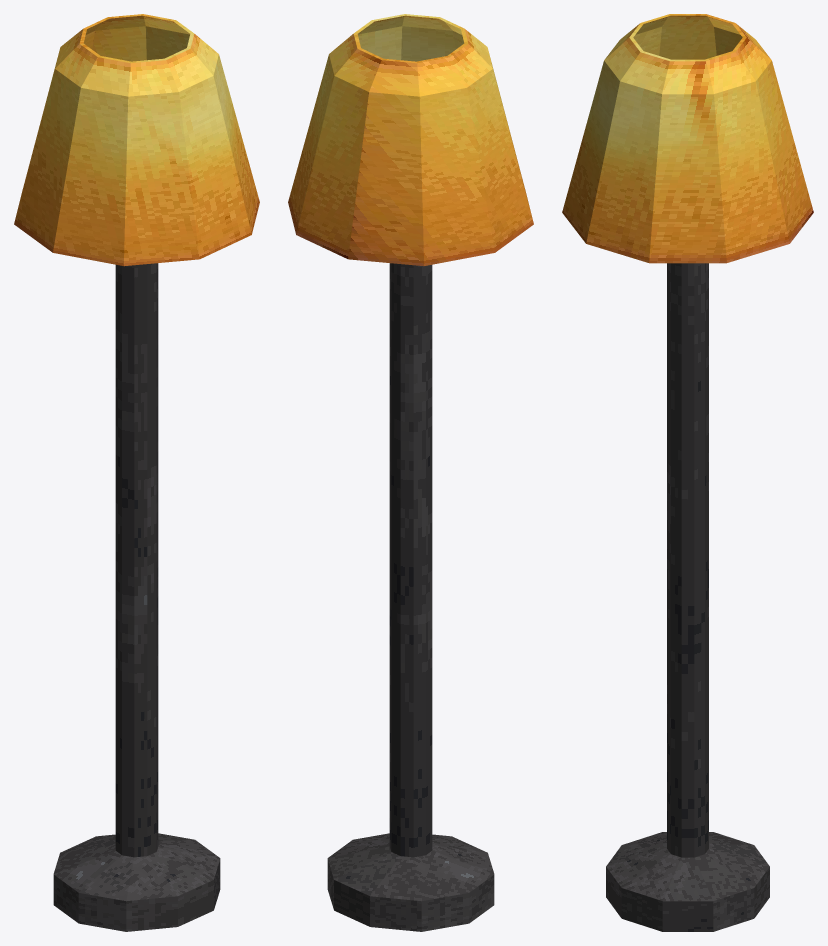
File: Floor_Lamp.glb
The picture shows the model from 3 angles, left to right: view 1: azimuth 30°, elevation 25°; view 2: azimuth 150°, elevation 25°; view 3: azimuth 270°, elevation 25°; orthographic projection.
Parts seen in each view (by area): view 1: Cylinder.001, Lamb; view 2: Cylinder.001, Lamb; view 3: Cylinder.001, Lamb.
Part boxes in pixels (bbox=[...]): Cylinder.001: bbox=[14, 14, 259, 266]; Lamb: bbox=[53, 263, 220, 931]; Cylinder.001: bbox=[288, 14, 533, 266]; Lamb: bbox=[327, 263, 494, 931]; Cylinder.001: bbox=[562, 14, 813, 263]; Lamb: bbox=[606, 263, 769, 931].
Bounding box in the file's own units: 0.2853 × 1.13 × 0.3.
2 materials, 2 textured.
